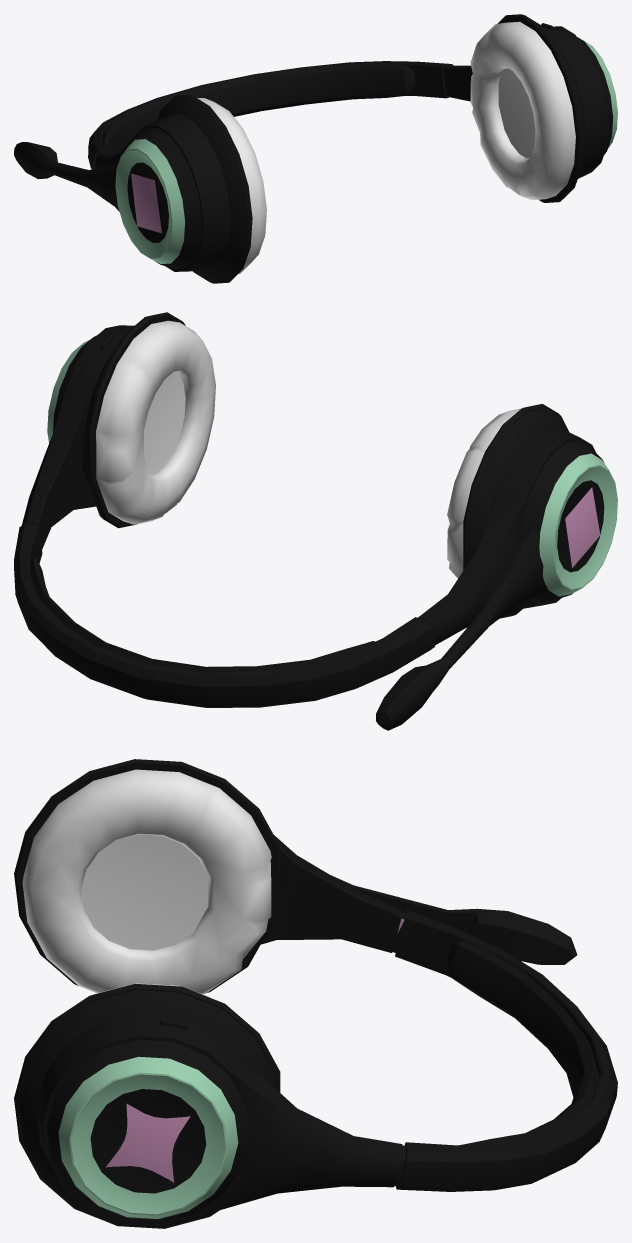
Rendered from LJJYWXEJ1.FBX.
The picture shows the model from 3 angles, top to bottom: view 1: azimuth 30°, elevation 25°; view 2: azimuth 150°, elevation 25°; view 3: azimuth 270°, elevation 25°; orthographic projection. The views are drawn at different scales.
Visible parts, largest first — view 1: LJJYWXEJ1; view 2: LJJYWXEJ1; view 3: LJJYWXEJ1.
Part boxes in pixels (bbox=[...]): LJJYWXEJ1: bbox=[14, 14, 617, 283]; LJJYWXEJ1: bbox=[14, 312, 617, 730]; LJJYWXEJ1: bbox=[14, 759, 617, 1228].
Bounding box in the file's own units: 27.45 × 23.01 × 10.3.
